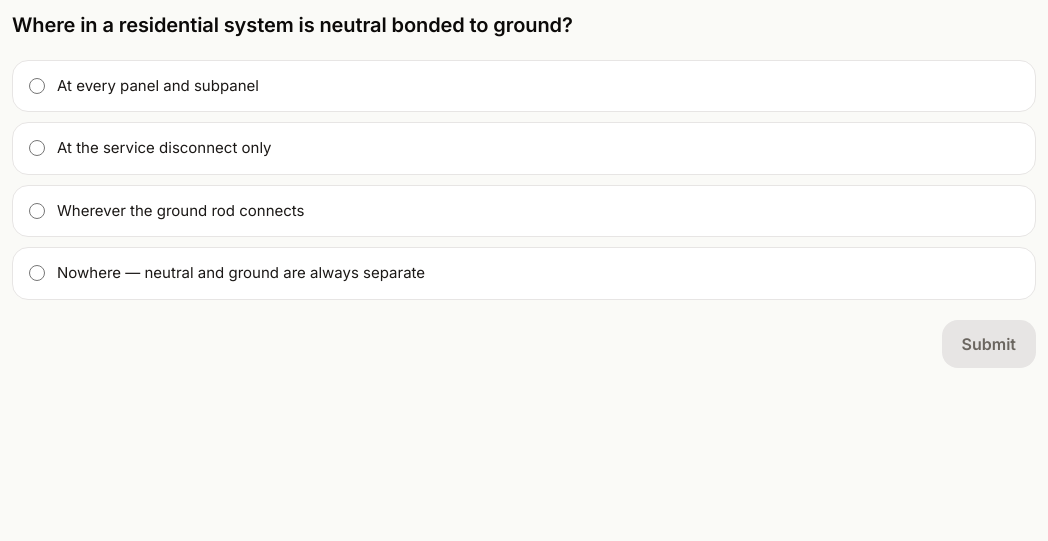
MCQuestionScreen correct-answer inline flow › renders the MCQ's rationale and a Next button when correct is submitted
The image size is (1048, 541).
Click the radio button labelled "At the service disconnect only". click: {"x": 37, "y": 148}
box: [29,140,45,156]
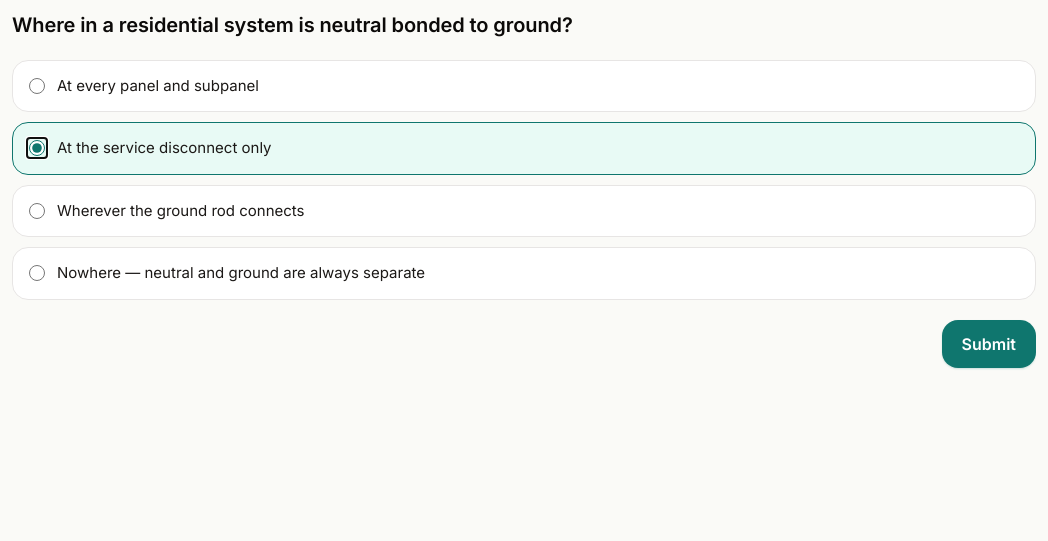
Click the button "Submit". click: {"x": 989, "y": 344}
box: [942,320,1036,368]
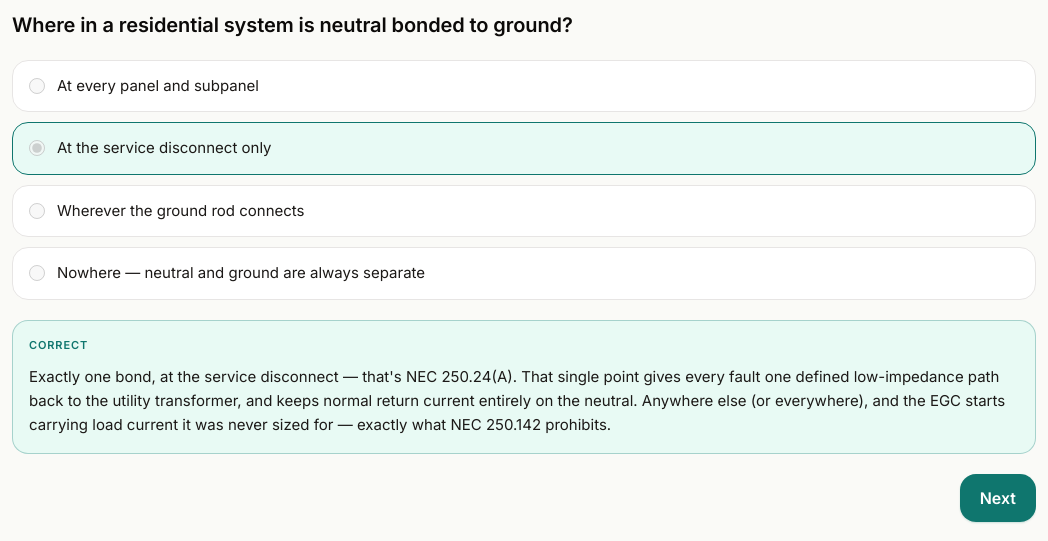
Check: the text "Exactly one bond, at the service disconnect — that's NEC 250.24(A). That single point gives every fault one defined low-" is shown, box [29,367,1009,434]
Check: the button "Next" is shown, box [960,474,1036,522]
Check: the button "Submit" is gone
